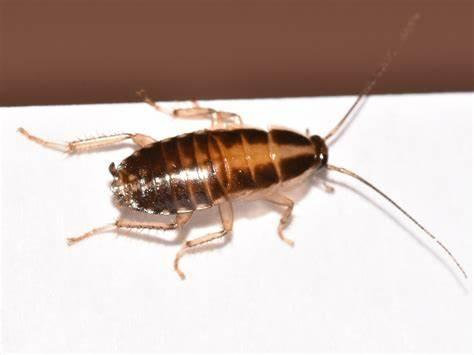cockroach: (91, 118, 344, 232)
